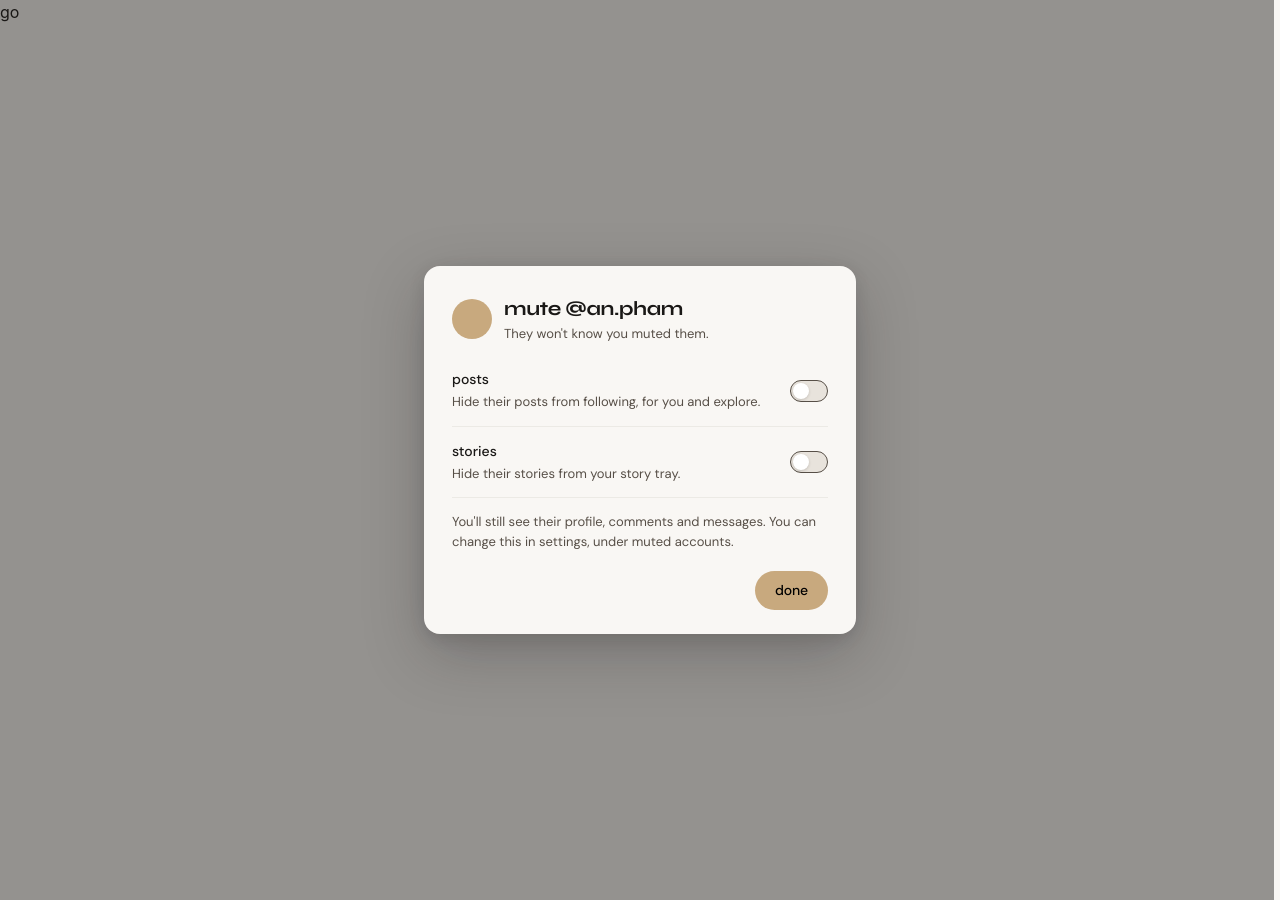
Scenario: MuteDialog › says so with a toast when a save fails after the dialog was closed
Click the switch named "posts" at (809, 390), box [790,380,828,402]
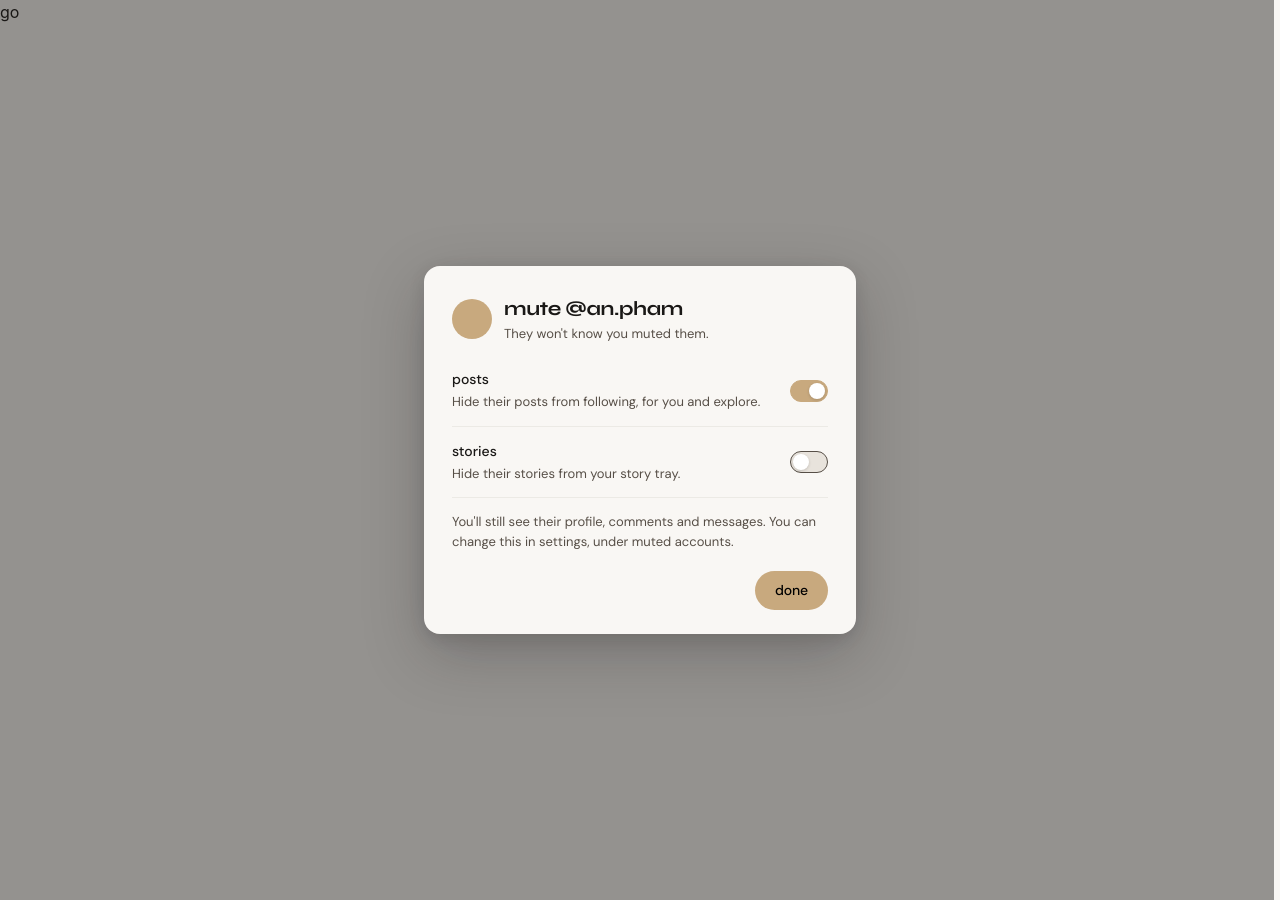
Click the button "done" at (791, 591), box [755,571,828,610]
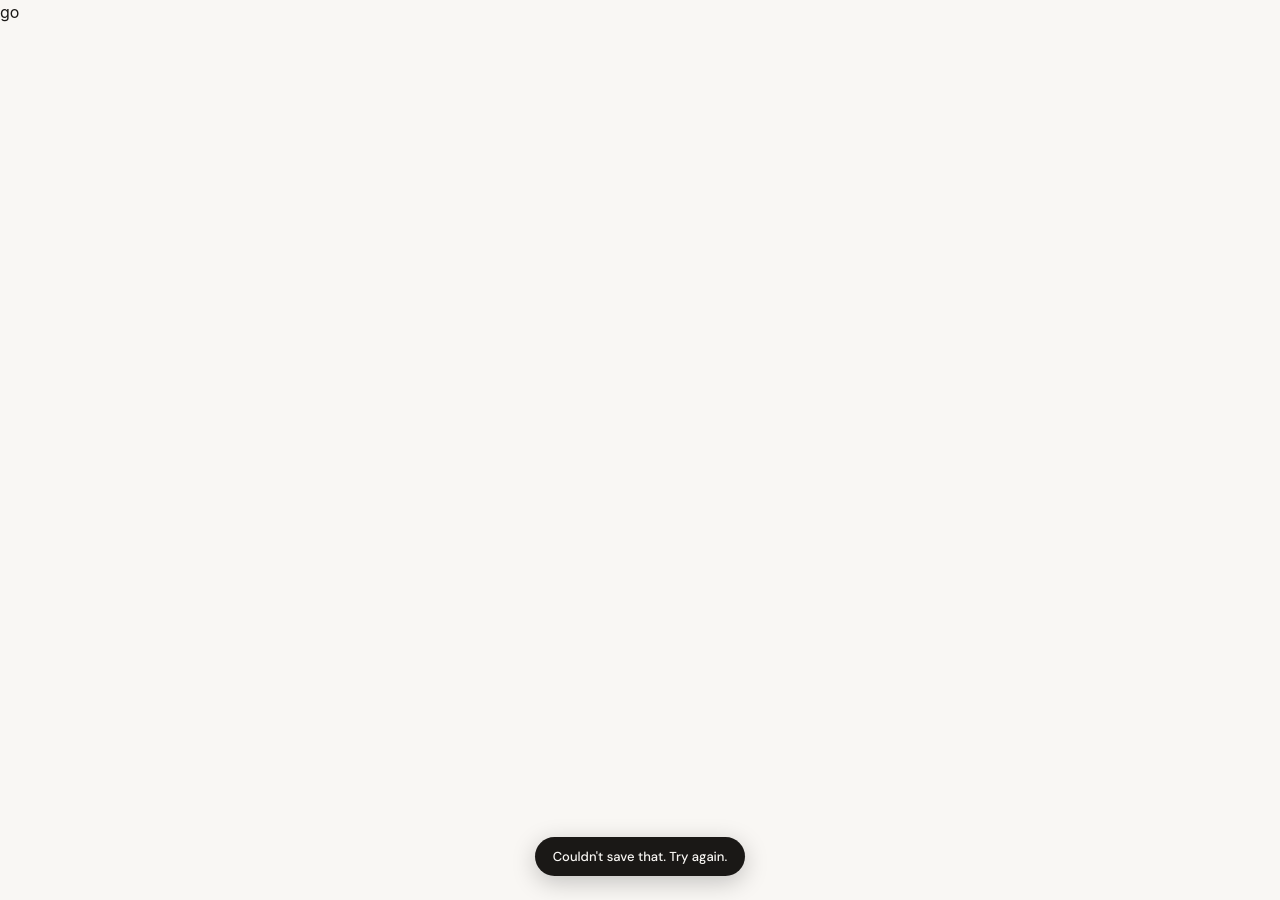
Expected: the dialog is gone
Expected: the message reads "Couldn't save that. Try again.", [553,848,727,864]
